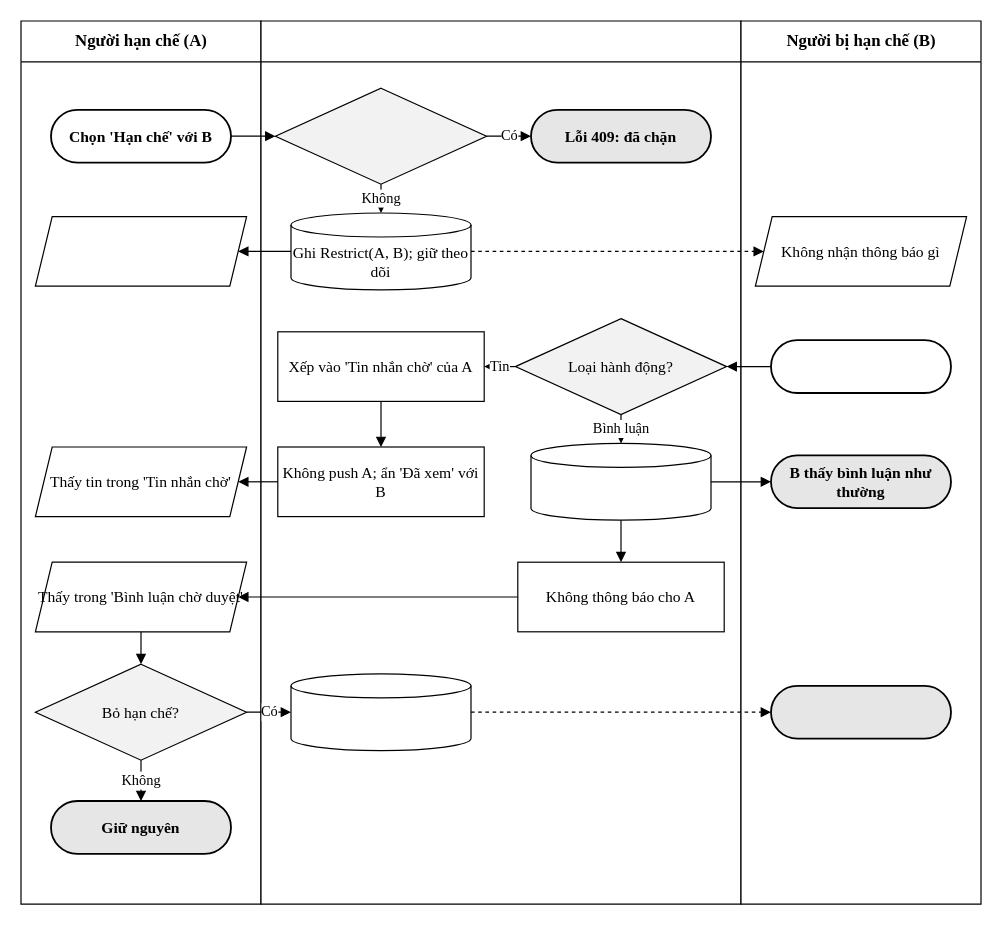
The diagram is 1002 pixels wide and 925 high, and some of its shapes have lost their labels. The shapes that lost their labels are listed below. From the top down, each one's box as (x1, y1, x2, y2) in pixels, then its label:
(274, 87, 487, 184): Đang chặn nhau?
(34, 215, 247, 286): Thấy 'Đã hạn chế B'
(770, 339, 951, 393): B bình luận hoặc nhắn A
(260, 20, 741, 904): Máy chủ
(530, 442, 711, 520): Lưu bình luận, ẩn (RESTRICTED)
(290, 673, 471, 751): Xóa Restrict; mục mới hiện bình thường
(770, 684, 951, 739): B không được báo
